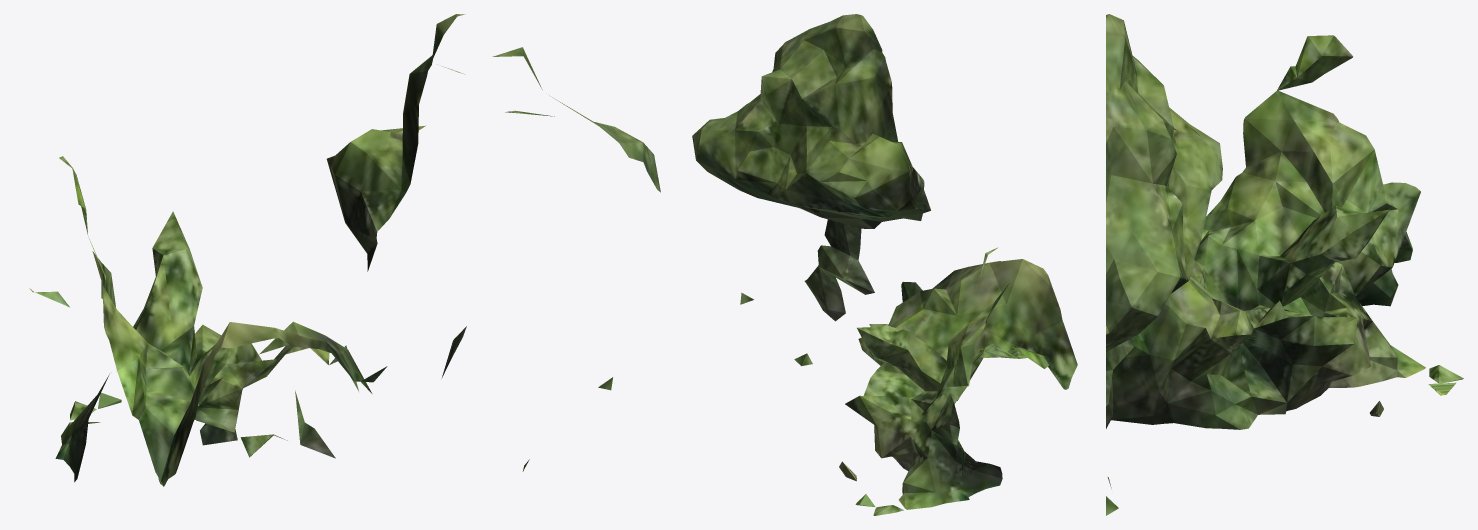
3 views of the same model, side by side, from view 1: azimuth 30°, elevation 25°; view 2: azimuth 150°, elevation 25°; view 3: azimuth 270°, elevation 25° (orthographic). The views are drawn at different scales.
Size of the model in its own units: 15.24 by 14.02 by 9.89.
1 material, 1 textured.
